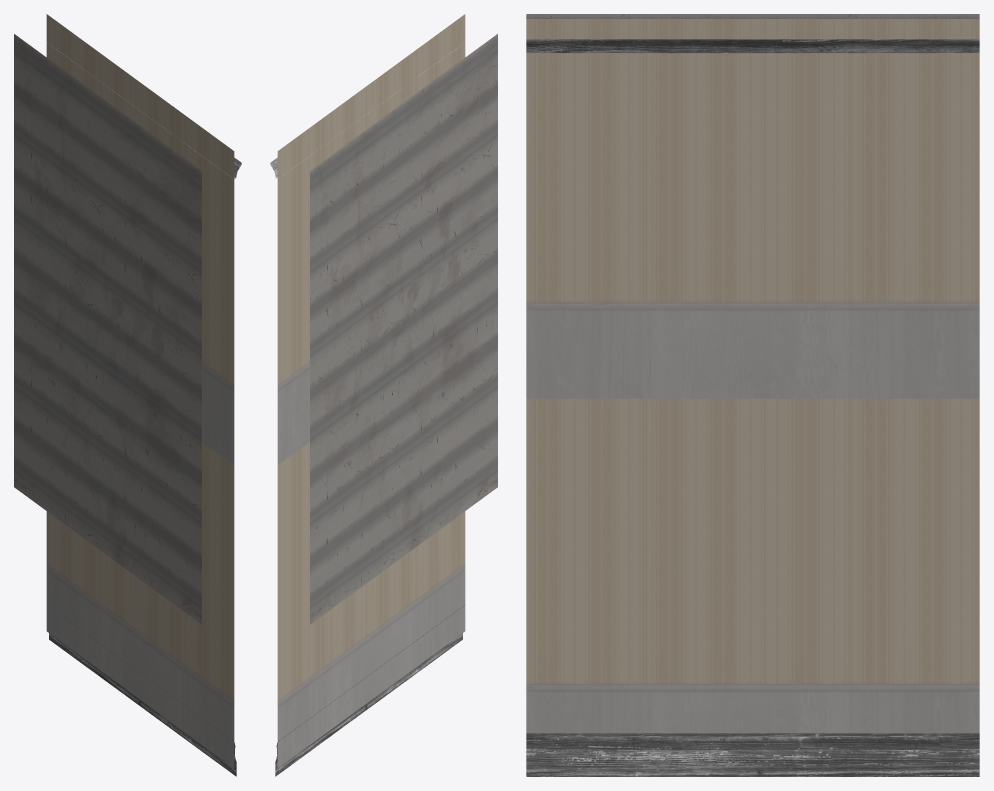
The model's file is SM_Wall_Floor2_200.fbx.
3 views of the same model, side by side, from view 1: azimuth 30°, elevation 25°; view 2: azimuth 150°, elevation 25°; view 3: azimuth 270°, elevation 25° (orthographic). The views are drawn at different scales.
Visible parts, largest first — view 1: SM_Wall_Floor2_200; view 2: SM_Wall_Floor2_200; view 3: SM_Wall_Floor2_200.
Boxes of the visible parts, bbox=[...] form: SM_Wall_Floor2_200: bbox=[14, 14, 241, 776]; SM_Wall_Floor2_200: bbox=[270, 14, 497, 776]; SM_Wall_Floor2_200: bbox=[526, 14, 979, 776].
Size of the model in its own units: 17.23 by 140 by 258.
Materials: 3 (3 with a texture image).
